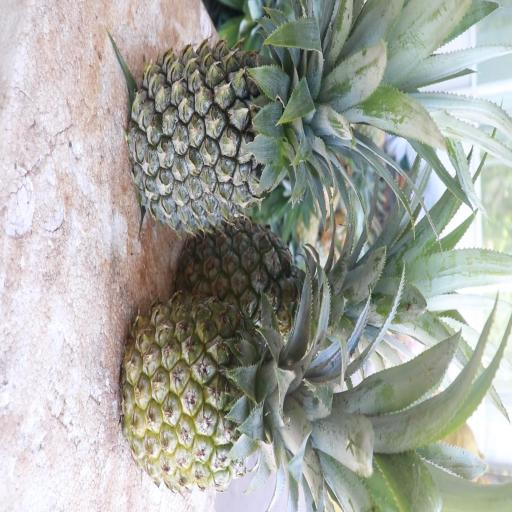------------------------------: (113, 283, 350, 503), (170, 210, 369, 372)
